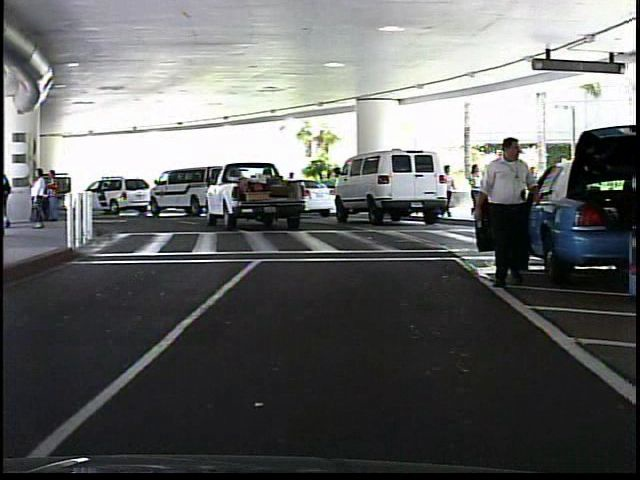person: (471, 129, 538, 291), (466, 161, 486, 221), (440, 160, 457, 221), (282, 168, 300, 214), (638, 147, 640, 280)
